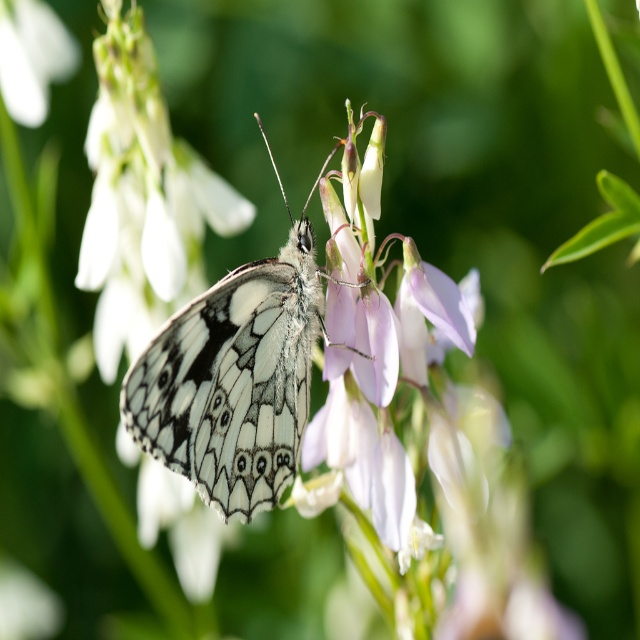Butterfly: (118, 112, 372, 522)
